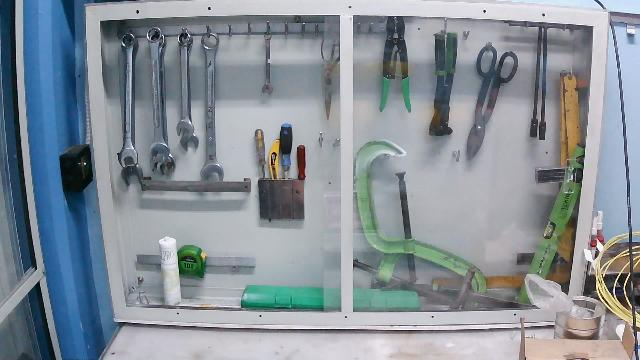kunci_pass_13: (247, 19, 288, 103)
